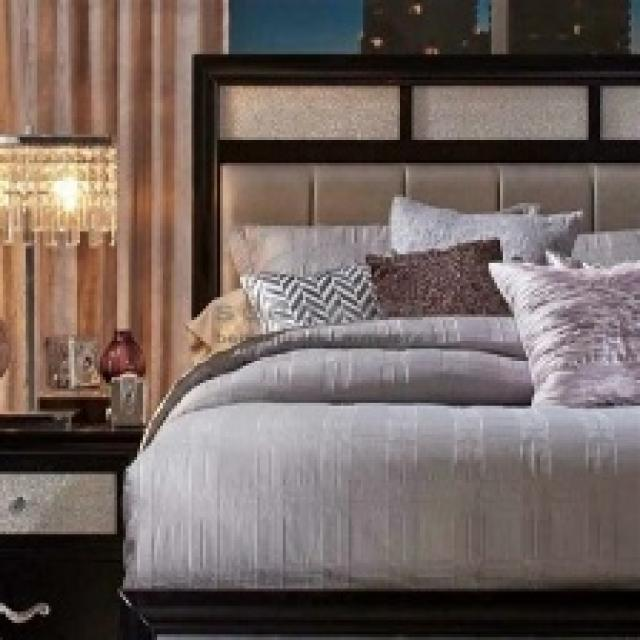Bed: (114, 52, 637, 637)
